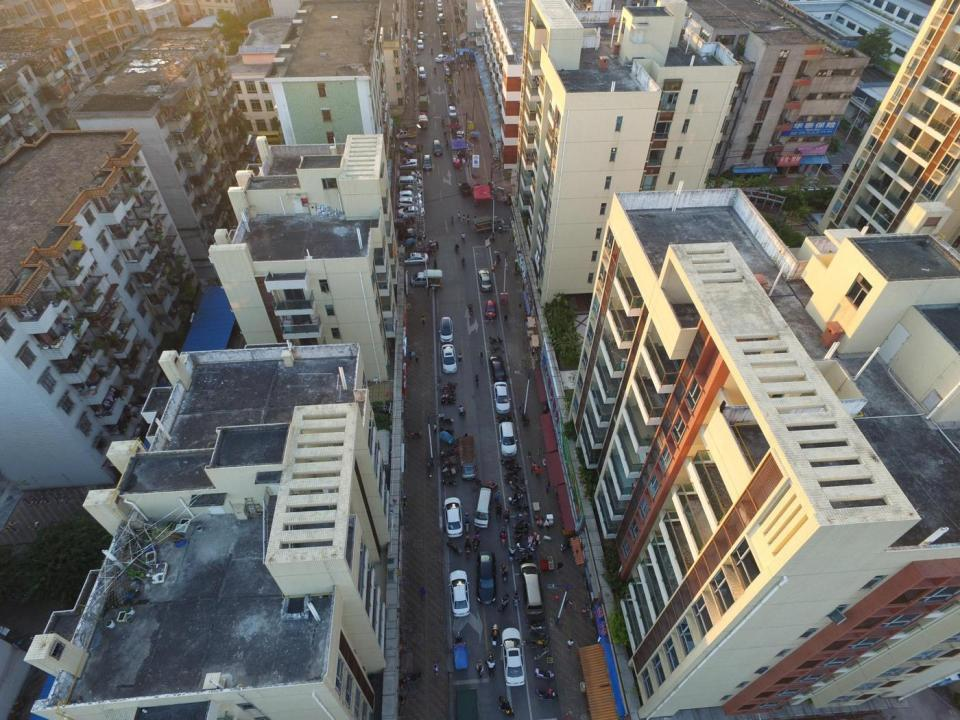car: (500, 627, 526, 686), (475, 550, 497, 606), (447, 570, 470, 616), (441, 497, 463, 538), (498, 421, 518, 457), (493, 381, 512, 414), (440, 344, 457, 374), (488, 355, 506, 382), (438, 317, 454, 343), (478, 269, 493, 293), (396, 228, 426, 240), (403, 252, 429, 265), (397, 196, 422, 209), (397, 206, 424, 218), (397, 190, 422, 200), (485, 300, 496, 320), (421, 154, 432, 171), (398, 185, 422, 192), (433, 140, 442, 156), (448, 105, 458, 119), (435, 55, 448, 62), (419, 66, 426, 77), (417, 9, 424, 19), (418, 39, 424, 50), (444, 68, 452, 76), (418, 31, 425, 39), (437, 3, 443, 11)
truck: (458, 436, 478, 481), (456, 688, 479, 720), (410, 269, 444, 287), (473, 216, 505, 232), (394, 124, 422, 140), (454, 48, 478, 61), (399, 141, 422, 154), (418, 93, 429, 111)
van: (518, 562, 544, 614), (472, 488, 492, 528), (398, 175, 424, 186), (398, 158, 417, 170), (437, 13, 443, 23)
